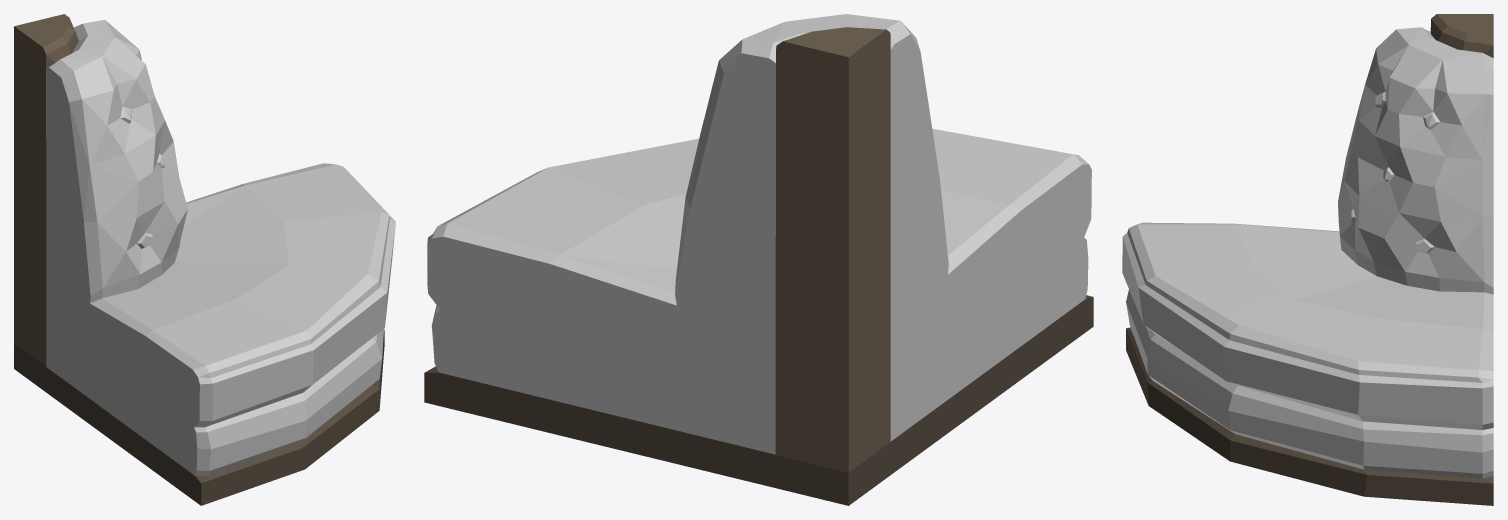
The model's file is Prop_Sofa_01_Corner_07.fbx.
3 renders of one model, left to right at view 1: azimuth 30°, elevation 25°; view 2: azimuth 150°, elevation 25°; view 3: azimuth 270°, elevation 25°, orthographic. The views are drawn at different scales.
Visible parts, largest first — view 1: SM_Prop_Sofa_01_Corner_07; view 2: SM_Prop_Sofa_01_Corner_07; view 3: SM_Prop_Sofa_01_Corner_07.
Part boxes in pixels (left/top/right/bottom): SM_Prop_Sofa_01_Corner_07: left=14, top=14, right=395, bottom=505; SM_Prop_Sofa_01_Corner_07: left=424, top=14, right=1093, bottom=505; SM_Prop_Sofa_01_Corner_07: left=1122, top=14, right=1493, bottom=505.
Size of the model in its own units: 100 by 100 by 100.
